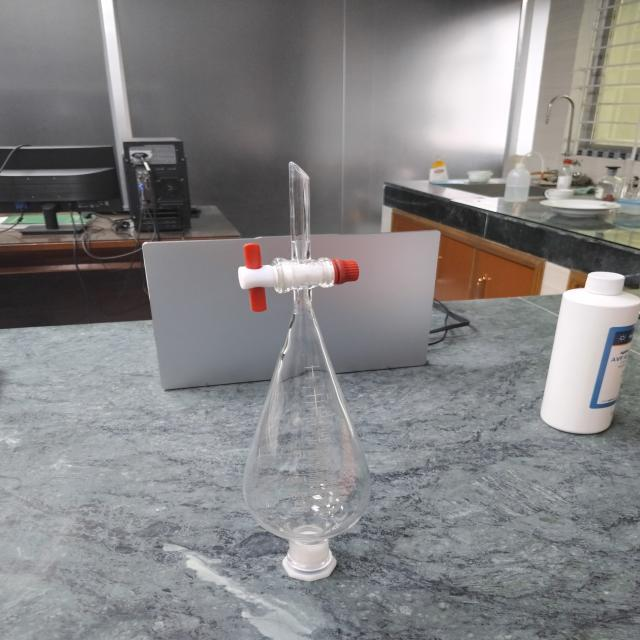Separating_Funnel: (184, 138, 420, 606)
